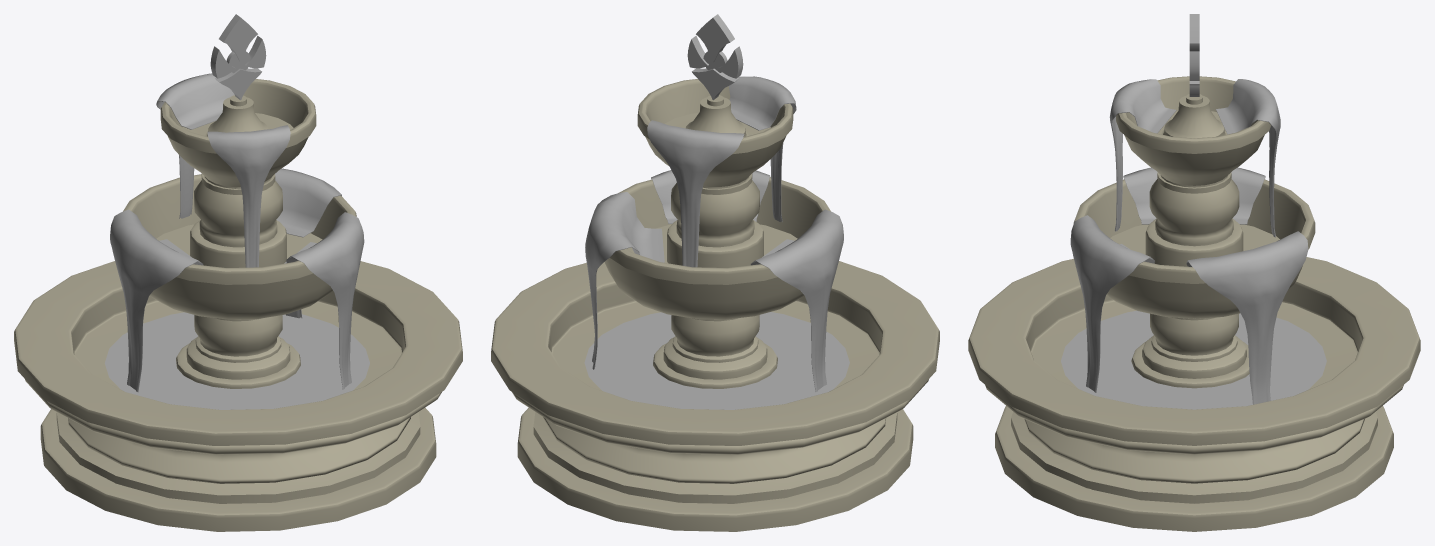
Rendered from courtyard_fountain.fbx.
3 views of the same model, side by side, from view 1: azimuth 30°, elevation 25°; view 2: azimuth 150°, elevation 25°; view 3: azimuth 270°, elevation 25° (orthographic).
Visible parts, largest first — view 1: fountain_body, streams, emblem; view 2: fountain_body, streams, emblem; view 3: fountain_body, streams, emblem.
Part boxes in pixels (bbox=[...]): fountain_body: bbox=[14, 79, 462, 531]; streams: bbox=[104, 73, 369, 409]; emblem: bbox=[210, 14, 266, 100]; fountain_body: bbox=[491, 79, 939, 531]; streams: bbox=[584, 76, 849, 409]; emblem: bbox=[687, 14, 743, 100]; fountain_body: bbox=[968, 76, 1420, 531]; streams: bbox=[1061, 79, 1326, 409]; emblem: bbox=[1189, 14, 1199, 96].
Bounding box in the file's own units: 5.62 × 5.95 × 5.62.
